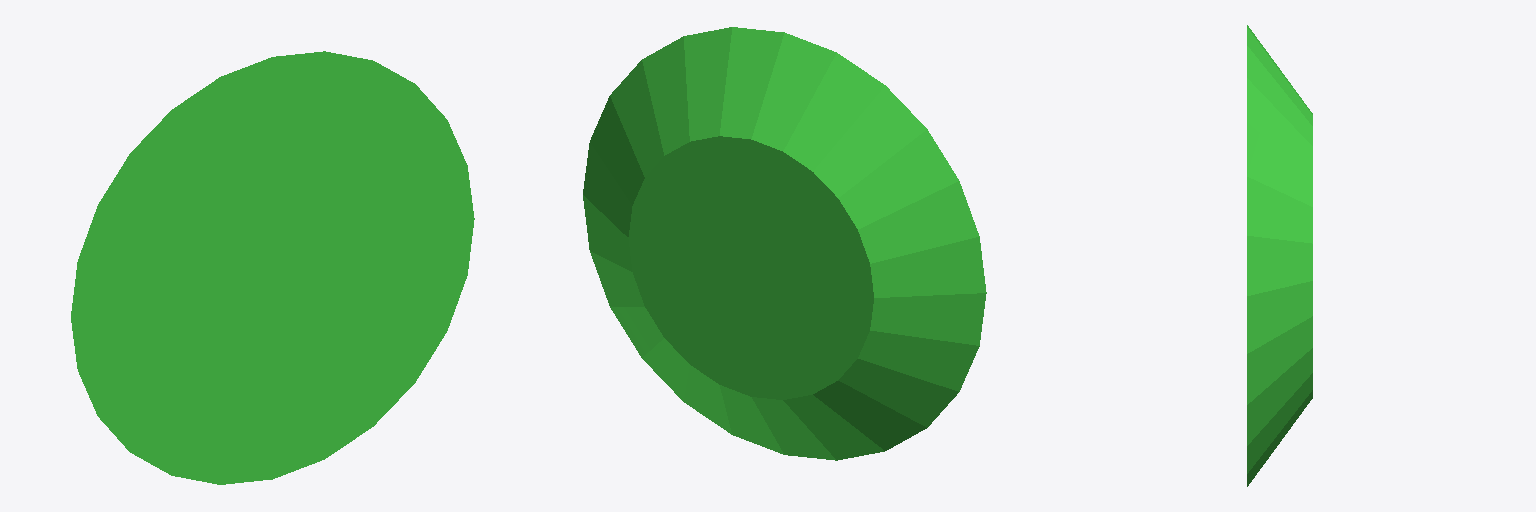
Rendered from Gethoblaster_BAFLE.obj.
3 renders of one model, left to right at view 1: azimuth 30°, elevation 25°; view 2: azimuth 150°, elevation 25°; view 3: azimuth 270°, elevation 25°, orthographic.
Visible parts, largest first — view 1: Cone002; view 2: Cone002; view 3: Cone002.
Part boxes in pixels (left/top/right/bottom): Cone002: left=71, top=51, right=474, bottom=484; Cone002: left=583, top=27, right=986, bottom=460; Cone002: left=1247, top=25, right=1312, bottom=486.
Size of the model in its own units: 11.4 by 11.4 by 1.63.